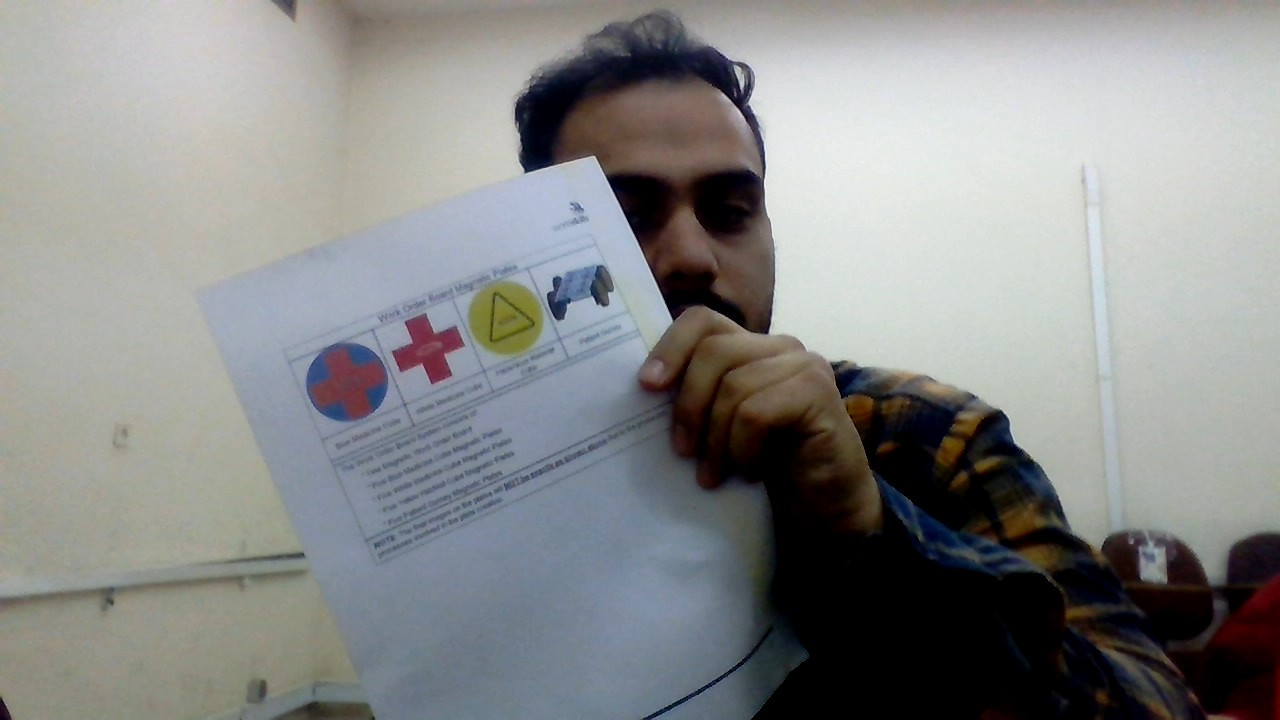bmc: (302, 339, 390, 426)
hmc: (461, 285, 542, 351)
pg: (541, 263, 620, 323)
wmc: (387, 313, 469, 387)
